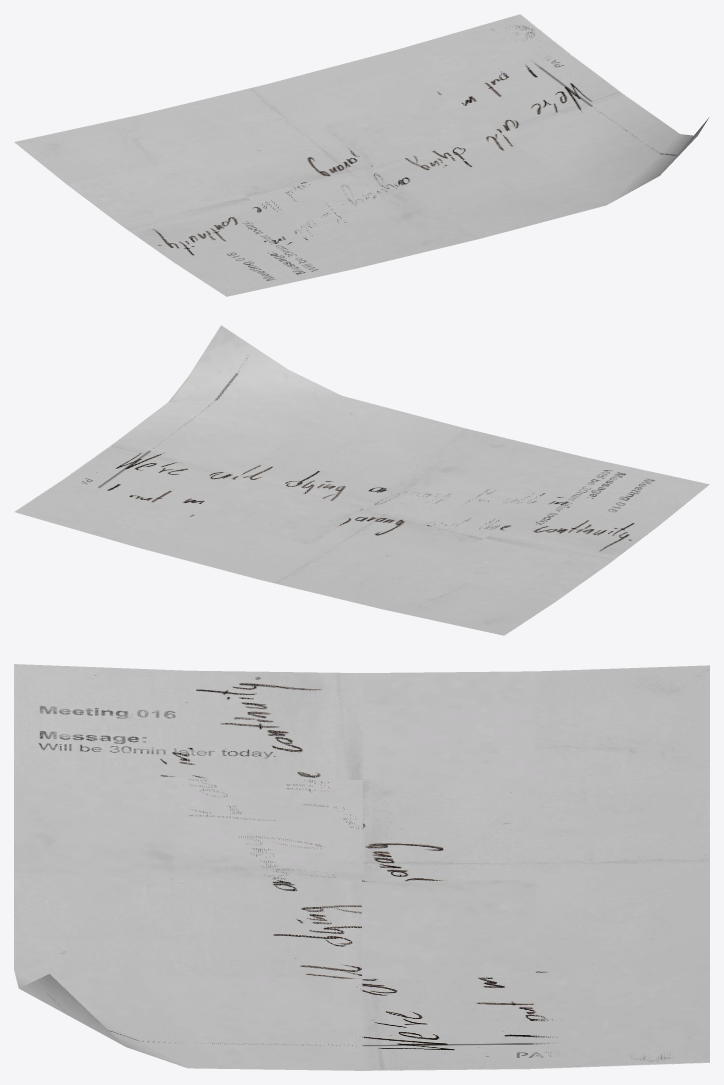
File: note_bass.dae
3 views of the same model, one above another, from view 1: azimuth 30°, elevation 25°; view 2: azimuth 150°, elevation 25°; view 3: azimuth 270°, elevation 25° (orthographic). The views are drawn at different scales.
Visible parts, largest first — view 1: divingsuitnote; view 2: divingsuitnote; view 3: divingsuitnote.
Boxes of the visible parts, x1,y1,x2,y2 form: divingsuitnote: (14,14,709,296); divingsuitnote: (14,325,709,635); divingsuitnote: (14,664,709,1070).
Bounding box in the file's own units: 0.3491 × 0.0404 × 0.2536.
1 material, 1 textured.
